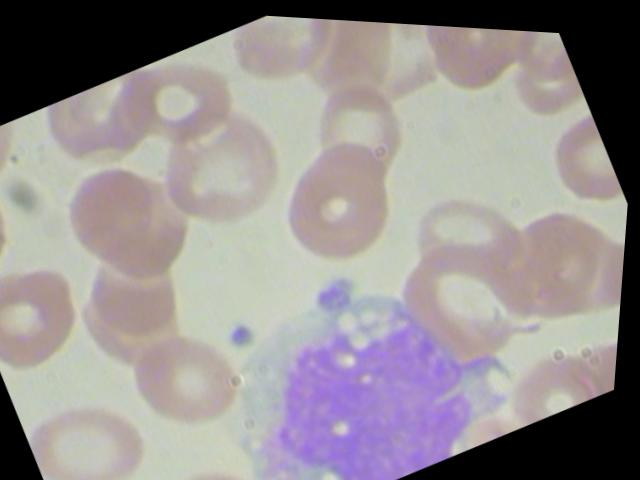Red Blood Cells: (133, 75, 314, 247), (260, 124, 419, 282), (387, 147, 547, 303), (112, 301, 264, 448), (42, 142, 189, 291), (22, 366, 180, 479), (0, 242, 109, 389), (530, 91, 632, 213), (149, 442, 286, 479)
White Blood Cells: (183, 208, 550, 479)
